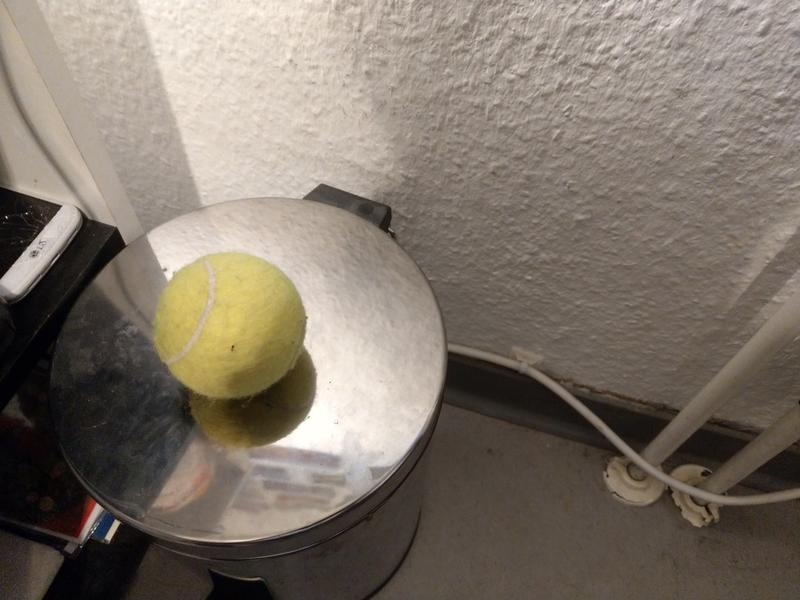Tennisball: (149, 247, 312, 404)
